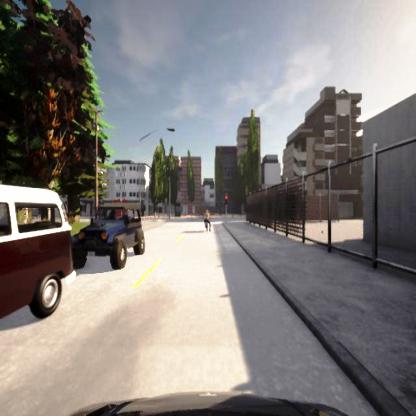bike: (202, 210, 211, 232)
vehicle: (1, 169, 76, 363), (74, 200, 146, 269)
